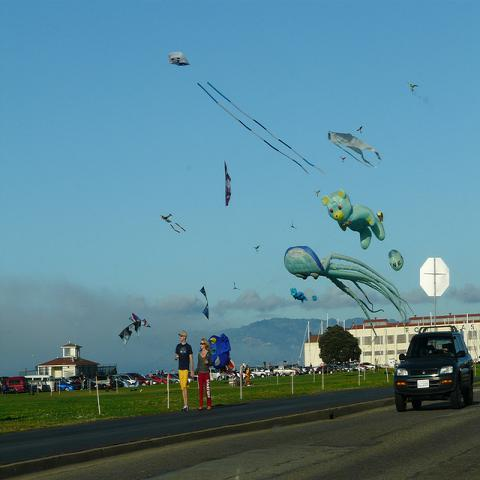car: (55, 364, 366, 391), (396, 324, 476, 411), (7, 376, 28, 394), (126, 372, 150, 386), (0, 377, 16, 394), (120, 373, 137, 386), (317, 365, 339, 375), (249, 367, 267, 378), (161, 374, 179, 384), (98, 376, 112, 388), (83, 378, 97, 390), (112, 375, 127, 386), (360, 361, 376, 371), (152, 375, 167, 385)
